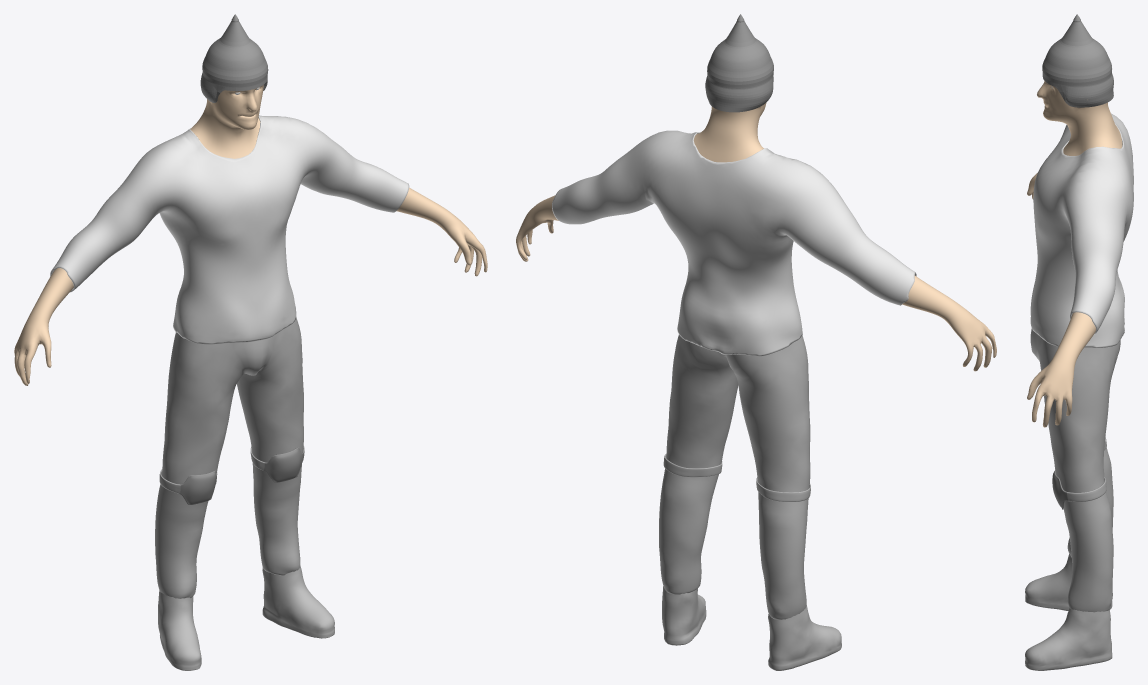
Rendered from character_lowpoy.fbx.
3 renders of one model, left to right at view 1: azimuth 30°, elevation 25°; view 2: azimuth 150°, elevation 25°; view 3: azimuth 270°, elevation 25°, orthographic.
Parts seen in each view (by area): view 1: shirt, pants, human, boots, helmet, kneepads; view 2: shirt, pants, human, boots, helmet, kneepads.001; view 3: shirt, pants, human, boots, helmet, kneepads.001, kneepads.
Part boxes in pixels (left/top/right/bottom): shirt: left=50, top=115, right=409, bottom=344; pants: left=155, top=318, right=303, bottom=598; human: left=14, top=85, right=487, bottom=385; boots: left=158, top=566, right=334, bottom=670; helmet: left=200, top=14, right=268, bottom=102; kneepads: left=179, top=447, right=304, bottom=504; shirt: left=552, top=130, right=916, bottom=356; pants: left=659, top=335, right=810, bottom=619; human: left=516, top=102, right=996, bottom=371; boots: left=662, top=586, right=841, bottom=670; helmet: left=705, top=14, right=773, bottom=112; kneepads.001: left=663, top=454, right=810, bottom=501; shirt: left=1030, top=113, right=1133, bottom=347; pants: left=1030, top=328, right=1120, bottom=612; human: left=1027, top=81, right=1122, bottom=427; boots: left=1025, top=554, right=1112, bottom=670; helmet: left=1042, top=14, right=1113, bottom=107; kneepads.001: left=1067, top=436, right=1106, bottom=501; kneepads: left=1052, top=470, right=1068, bottom=509.
Size of the model in its own units: 235 by 300 by 47.77.
